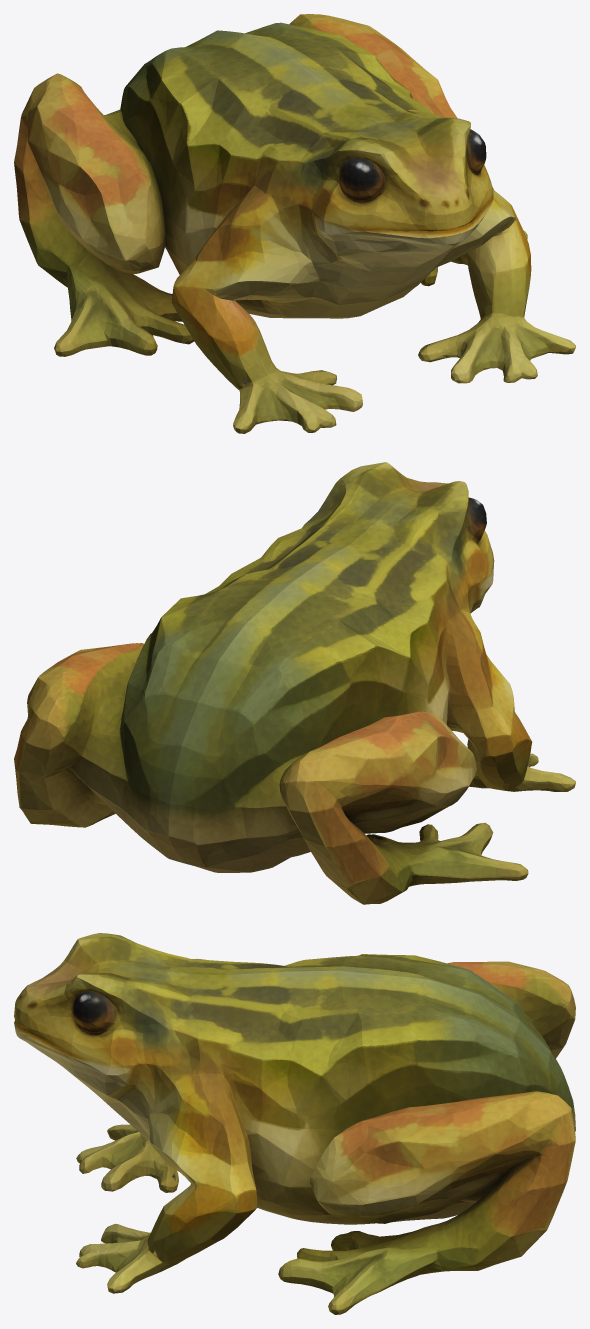
3 renders of one model, top to bottom at view 1: azimuth 30°, elevation 25°; view 2: azimuth 150°, elevation 25°; view 3: azimuth 270°, elevation 25°, orthographic. The views are drawn at different scales.
Visible parts, largest first — view 1: world; view 2: world; view 3: world.
Part boxes in pixels (x1=…): world: x1=14, y1=14, x2=575, y2=433; world: x1=14, y1=462, x2=575, y2=904; world: x1=14, y1=933, x2=575, y2=1314.
Size of the model in its own units: 0.0568 by 0.0306 by 0.06.
Materials: 1 (1 with a texture image).
